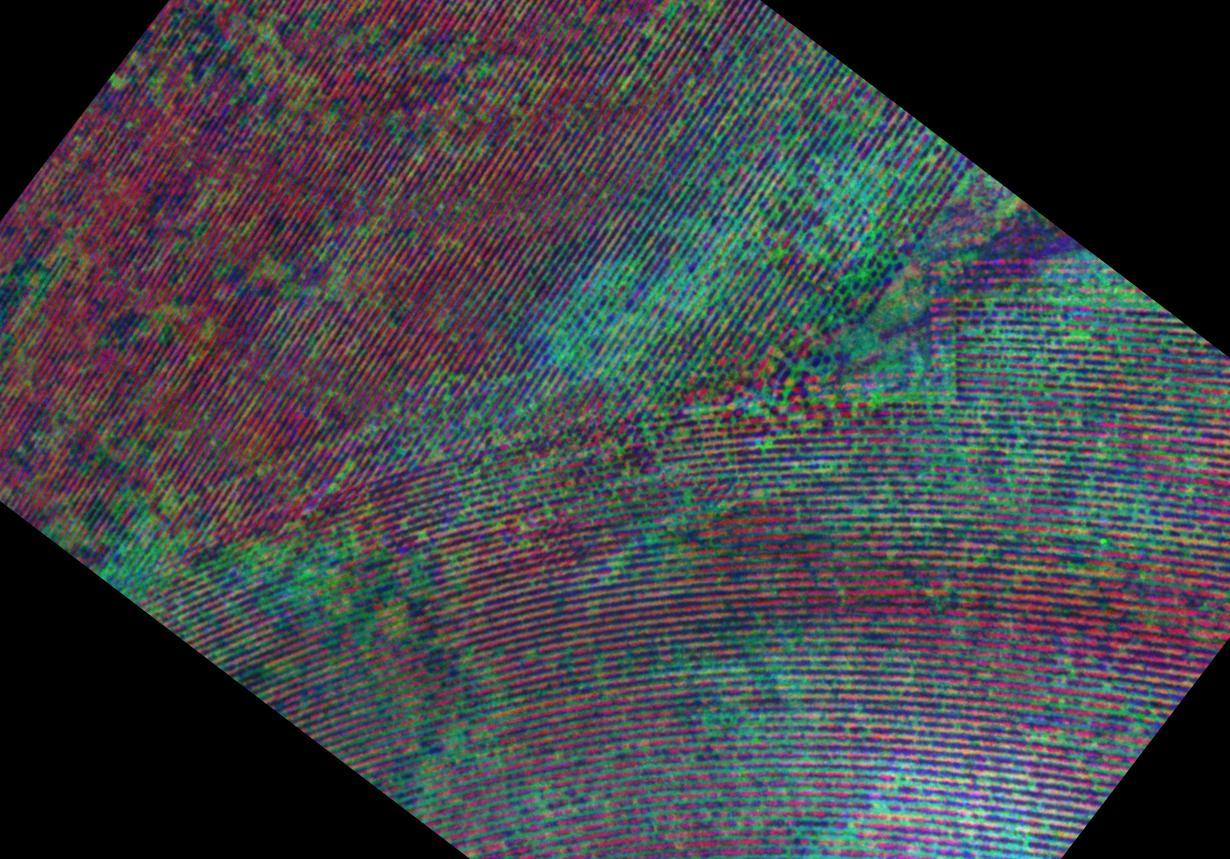dc: (561, 295, 653, 377), (856, 328, 954, 403), (118, 508, 189, 605), (251, 538, 349, 608), (808, 163, 883, 253)
